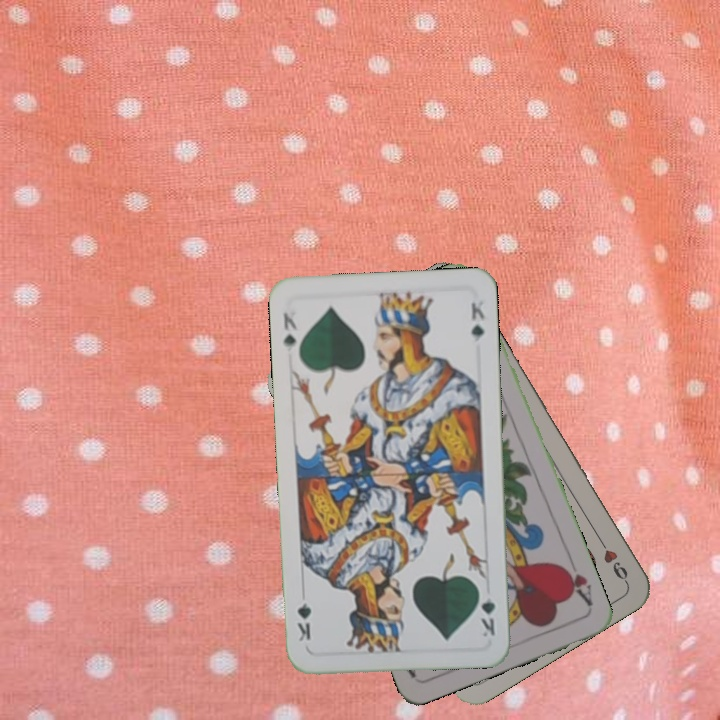GK: (474, 583, 498, 640), (279, 309, 300, 354)
H9: (593, 533, 631, 586)
HA: (556, 560, 596, 609)
